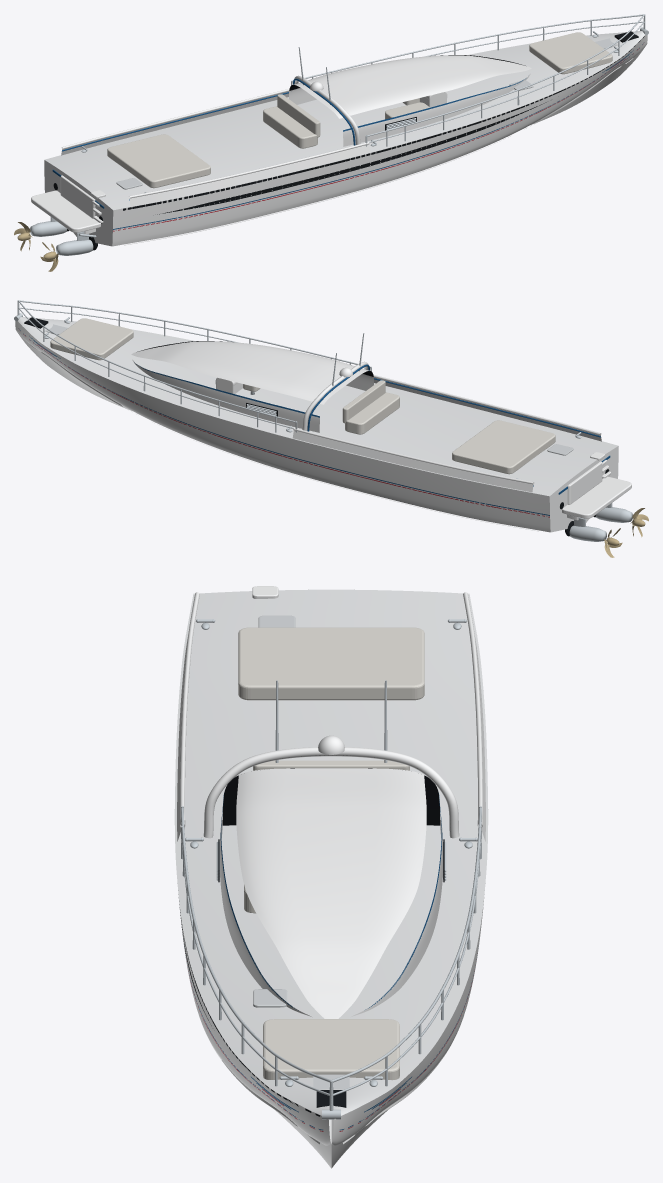
File: dpv-luxury-yacht.glb
3 renders of one model, top to bottom at view 1: azimuth 30°, elevation 25°; view 2: azimuth 150°, elevation 25°; view 3: azimuth 270°, elevation 25°, orthographic. The views are drawn at different scales.
Parts seen in each view (by area): view 1: main_deck, hull_topside_stbd, house_roof, sunpad, bow_sunpad, coaming_stbd, house_side_lower_stbd, swim_platform, hull_glazing_stbd, transom, coaming_port, cockpit_bench (+15 smaller); view 2: main_deck, hull_topside_port, house_roof, sunpad, bow_sunpad, coaming_port, house_side_lower_port, swim_platform, transom, coaming_stbd, cockpit_bench, drive_nacelle (×2) (+13 smaller); view 3: main_deck, house_roof, sunpad, bow_sunpad, radar_arch, hull_topside_port, hull_topside_stbd, house_side_lower_port, house_side_lower_stbd, bench_back, house_aft_bulkhead, coaming_cap_stbd (+3 smaller).
Boxes of the visible parts, x1,y1,x2,y2 form: main_deck: (44, 31, 644, 210); hull_topside_stbd: (112, 35, 647, 246); house_roof: (293, 55, 531, 118); sunpad: (107, 134, 210, 188); bow_sunpad: (529, 32, 612, 74); coaming_stbd: (129, 144, 370, 206); house_side_lower_stbd: (343, 74, 530, 146); swim_platform: (31, 190, 100, 232); hull_glazing_stbd: (157, 102, 546, 214); transom: (44, 160, 113, 246); coaming_port: (61, 91, 288, 155); cockpit_bench: (263, 106, 317, 148); main_deck: (18, 317, 618, 496); hull_topside_port: (15, 321, 550, 532); house_roof: (131, 341, 369, 404); sunpad: (452, 420, 555, 474); bow_sunpad: (50, 318, 133, 360); coaming_port: (292, 430, 533, 492); house_side_lower_port: (132, 360, 319, 432); swim_platform: (562, 476, 631, 518); transom: (549, 446, 618, 532); coaming_stbd: (374, 377, 601, 441); cockpit_bench: (345, 392, 399, 434); drive_nacelle (×2): (569, 507, 632, 541); main_deck: (174, 589, 488, 1115); house_roof: (236, 768, 426, 1018); sunpad: (238, 627, 424, 700); bow_sunpad: (263, 1019, 399, 1080); radar_arch: (203, 747, 459, 838); hull_topside_port: (332, 894, 484, 1145); hull_topside_stbd: (178, 898, 330, 1145); house_side_lower_port: (351, 797, 442, 1016); house_side_lower_stbd: (220, 797, 311, 1016); bench_back: (253, 760, 409, 770); house_aft_bulkhead: (222, 768, 440, 825); coaming_cap_stbd: (180, 592, 199, 827).
Bounding box in the file's own units: 31.44 × 6.65 × 6.92.
